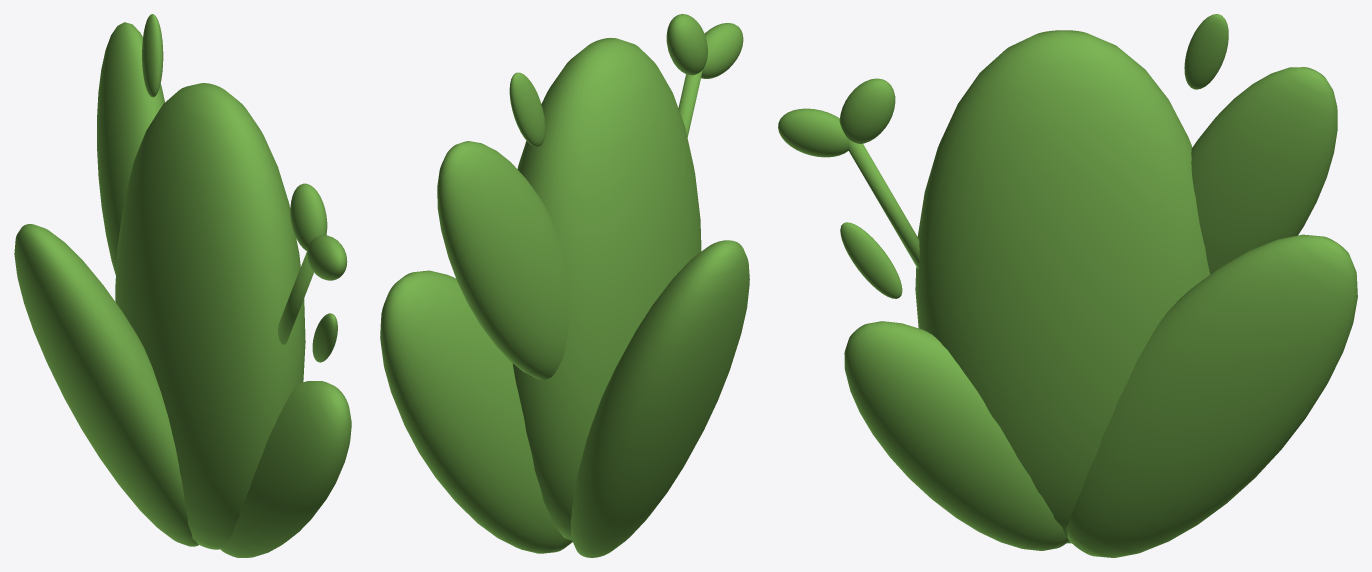
The model's file is Plant_3.fbx.
3 views of the same model, side by side, from view 1: azimuth 30°, elevation 25°; view 2: azimuth 150°, elevation 25°; view 3: azimuth 270°, elevation 25° (orthographic). The views are drawn at different scales.
Visible parts, largest first — view 1: PLant_3; view 2: PLant_3; view 3: PLant_3.
Part boxes in pixels (<box>): PLant_3: <box>14,14,351,557</box>; PLant_3: <box>380,14,749,557</box>; PLant_3: <box>778,14,1357,557</box>.
Bounding box in the file's own units: 46.09 × 86.15 × 84.2.
